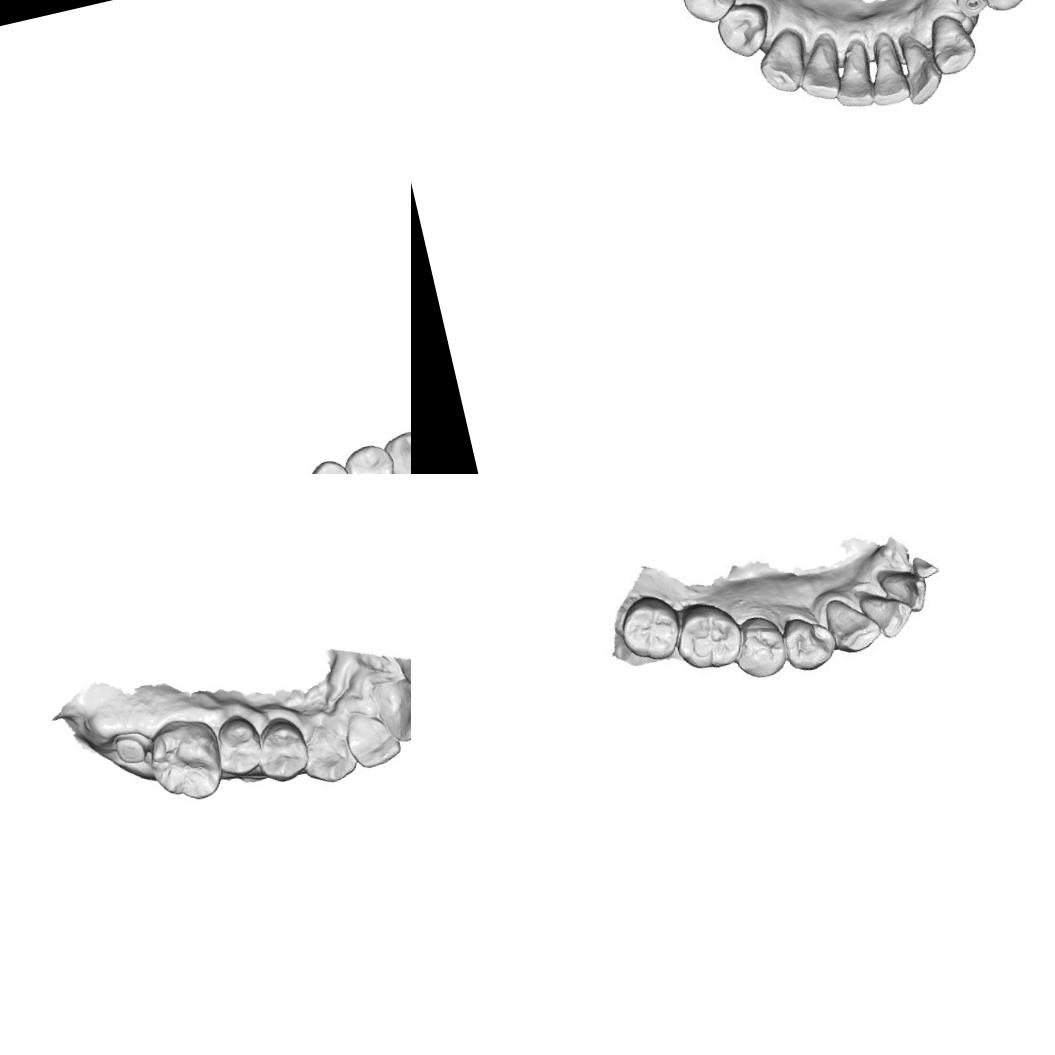abutment: (110, 726, 150, 770)
canine: (750, 27, 816, 102), (293, 715, 360, 788), (818, 594, 878, 661), (923, 9, 980, 78), (379, 424, 411, 474)
implant: (952, 0, 990, 23)
incisor: (892, 23, 948, 109), (340, 702, 405, 773), (790, 35, 846, 107), (862, 40, 916, 111), (858, 584, 920, 644), (826, 45, 880, 112), (877, 557, 932, 619), (367, 673, 411, 748)
molar: (141, 710, 232, 810), (670, 600, 746, 674), (615, 592, 686, 664)
premolar: (725, 611, 790, 686), (250, 712, 313, 786), (776, 612, 844, 678), (709, 0, 777, 64), (210, 710, 268, 781), (339, 438, 404, 474), (673, 0, 745, 31), (303, 454, 360, 474), (970, 0, 1036, 17)
